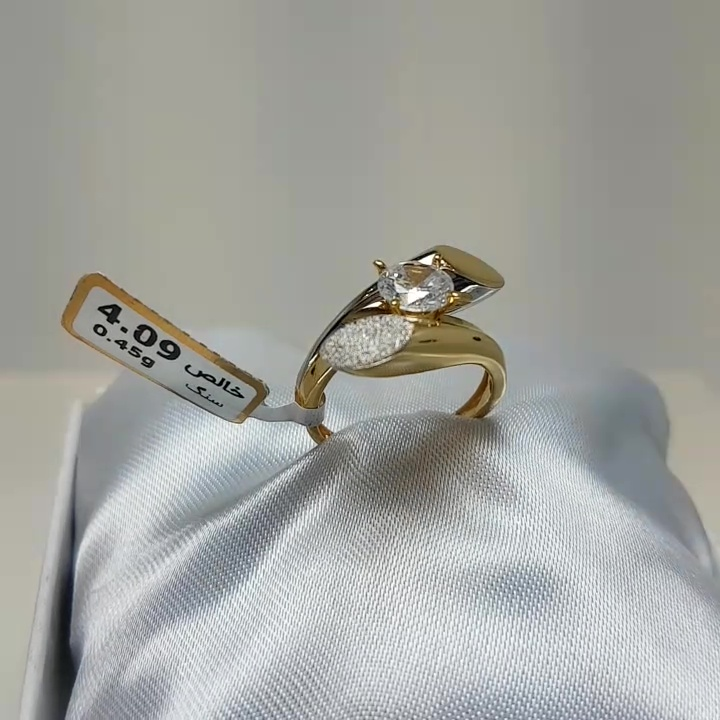Ring 7: (271, 223, 522, 468)
